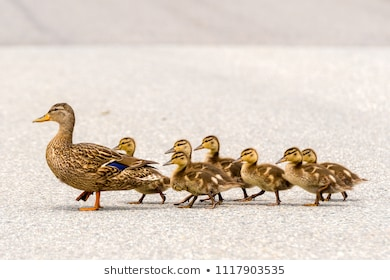duck: (18, 91, 159, 220)
